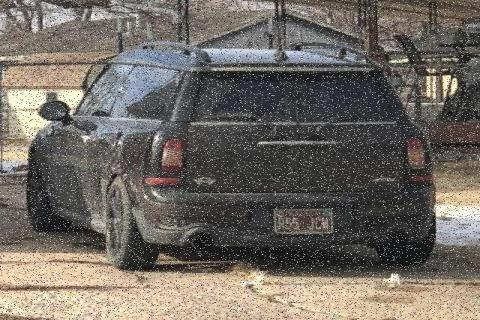LicensePlate: (271, 207, 331, 233)
